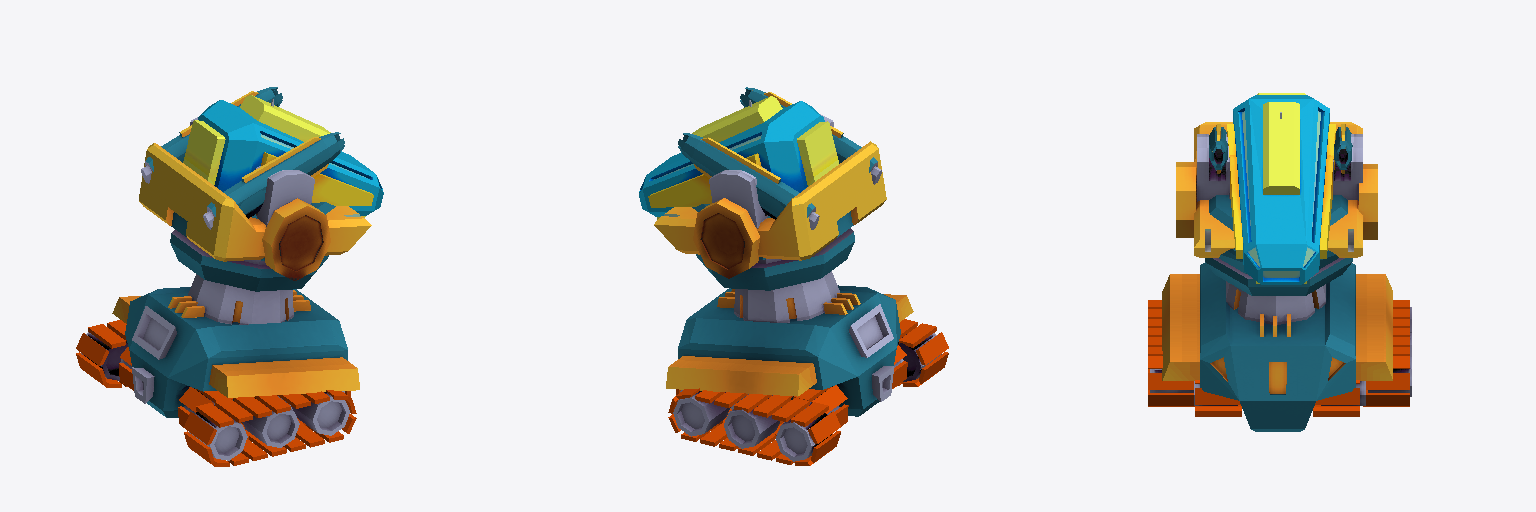
3 renders of one model, left to right at view 1: azimuth 30°, elevation 25°; view 2: azimuth 150°, elevation 25°; view 3: azimuth 270°, elevation 25°, orthographic.
Visible parts, largest first — view 1: Object015, Box020, Object014, Box018, Box019, Box017; view 2: Object015, Box019, Box018, Object014, Box020, Box016; view 3: Object015, Box019, Box020, Object014, Box017, Box016, Box018.
Boxes of the visible parts, <box> form: Object015: <box>112,95,383,417</box>; Box020: <box>184,390,356,466</box>; Object014: <box>141,87,344,229</box>; Box018: <box>81,332,349,460</box>; Box019: <box>76,320,126,387</box>; Box017: <box>178,387,350,439</box>; Object015: <box>639,96,913,416</box>; Box019: <box>668,388,840,465</box>; Box018: <box>673,333,941,461</box>; Object014: <box>678,87,881,229</box>; Box020: <box>898,319,948,386</box>; Box016: <box>676,385,848,435</box>; Object015: <box>1162,93,1392,431</box>; Box019: <box>1363,300,1409,406</box>; Box020: <box>1148,300,1194,406</box>; Object014: <box>1209,124,1352,173</box>; Box017: <box>1195,380,1241,416</box>; Box016: <box>1313,380,1359,416</box>; Box018: <box>1150,307,1411,396</box>.
Size of the model in its own units: 70.38 by 88.9 by 68.55.
6 materials, 2 textured.